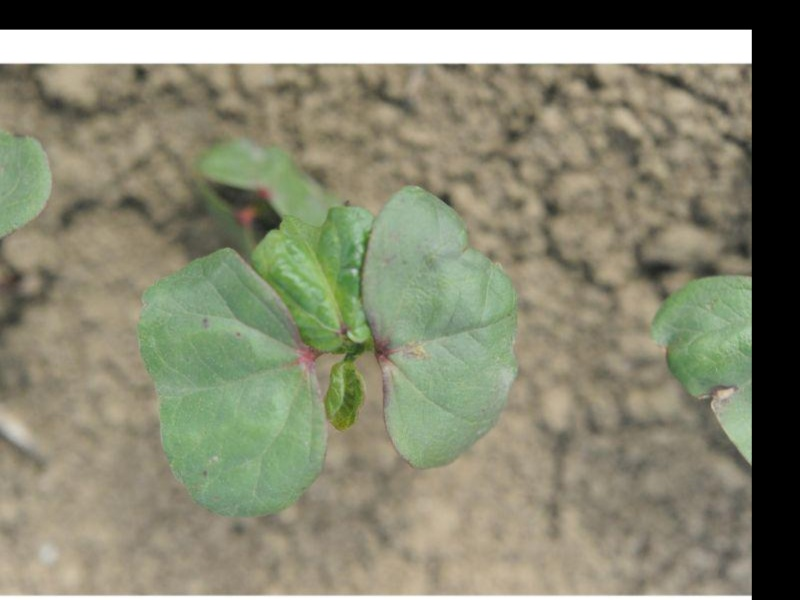cotton: (136, 180, 518, 518)
